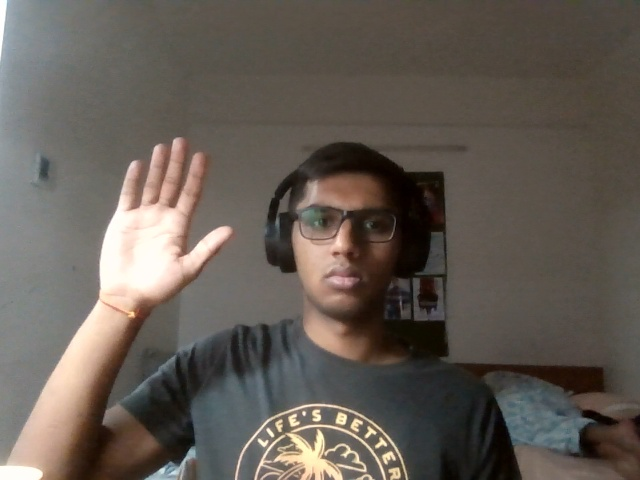hello: (95, 139, 246, 321)
